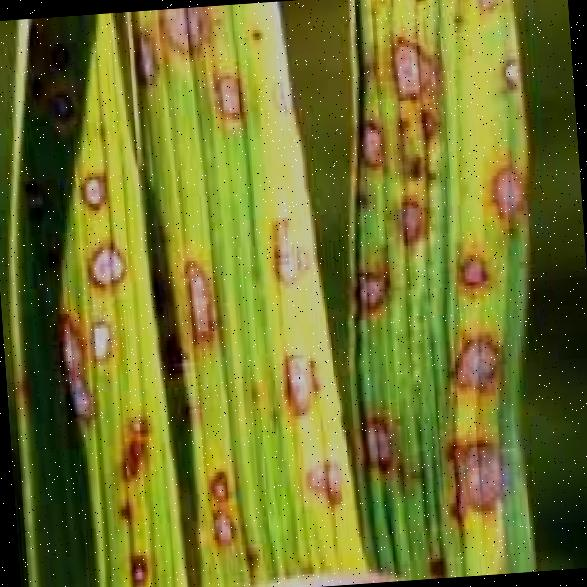Brown_Spot: (43, 302, 125, 408), (442, 414, 516, 519), (446, 302, 512, 394), (262, 198, 326, 288), (174, 238, 222, 345), (192, 450, 240, 557), (384, 17, 442, 98), (280, 342, 342, 412), (76, 230, 140, 285), (359, 401, 408, 471), (112, 415, 161, 482), (70, 160, 122, 221), (452, 239, 499, 306), (299, 442, 348, 505), (484, 149, 528, 216), (124, 26, 166, 82), (208, 70, 250, 120), (356, 118, 388, 177), (392, 197, 424, 249), (269, 66, 300, 112), (497, 44, 521, 96), (126, 537, 150, 582), (471, 0, 501, 17)
